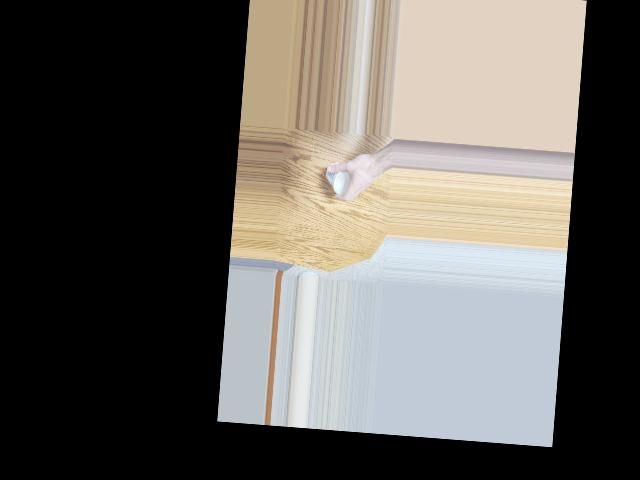cotage: (325, 158, 355, 192)
